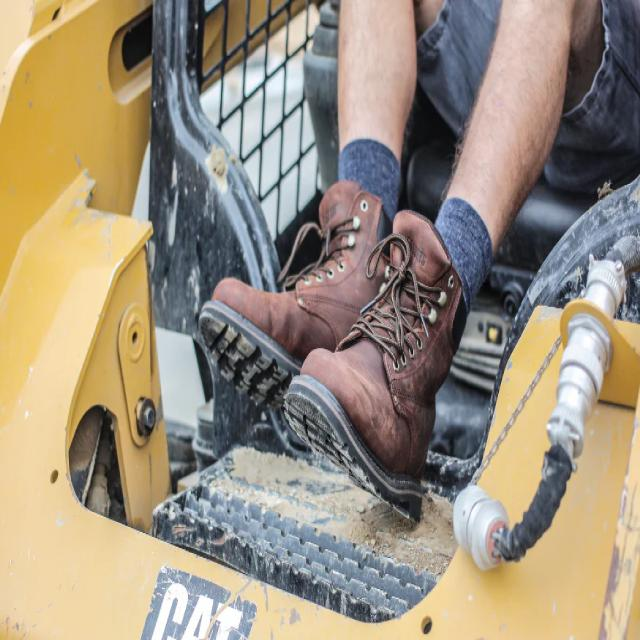Boots: (196, 178, 471, 528)
